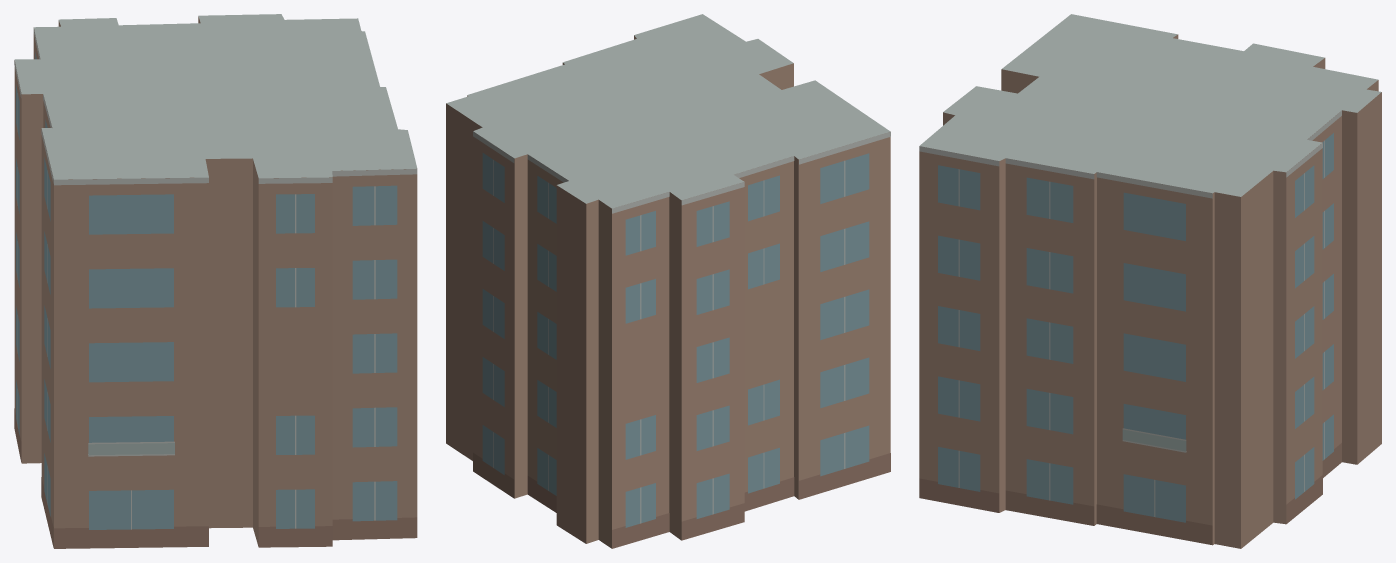
Rendered from survey-upis-32825168.glb.
3 renders of one model, left to right at view 1: azimuth 30°, elevation 25°; view 2: azimuth 150°, elevation 25°; view 3: azimuth 270°, elevation 25°, orthographic. The views are drawn at different scales.
Visible parts, largest first — view 1: survey-upis-32825168.tmp; view 2: survey-upis-32825168.tmp; view 3: survey-upis-32825168.tmp.
Part boxes in pixels (x1,y1,x2,y2): survey-upis-32825168.tmp: (14, 14, 417, 548); survey-upis-32825168.tmp: (446, 14, 890, 548); survey-upis-32825168.tmp: (919, 14, 1381, 548).
Size of the model in its own units: 17.96 by 16.1 by 19.19.
